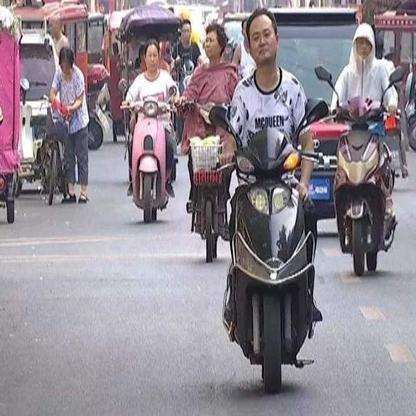target: (206, 6, 324, 395), (314, 19, 410, 278), (179, 21, 238, 263), (115, 37, 179, 223)
